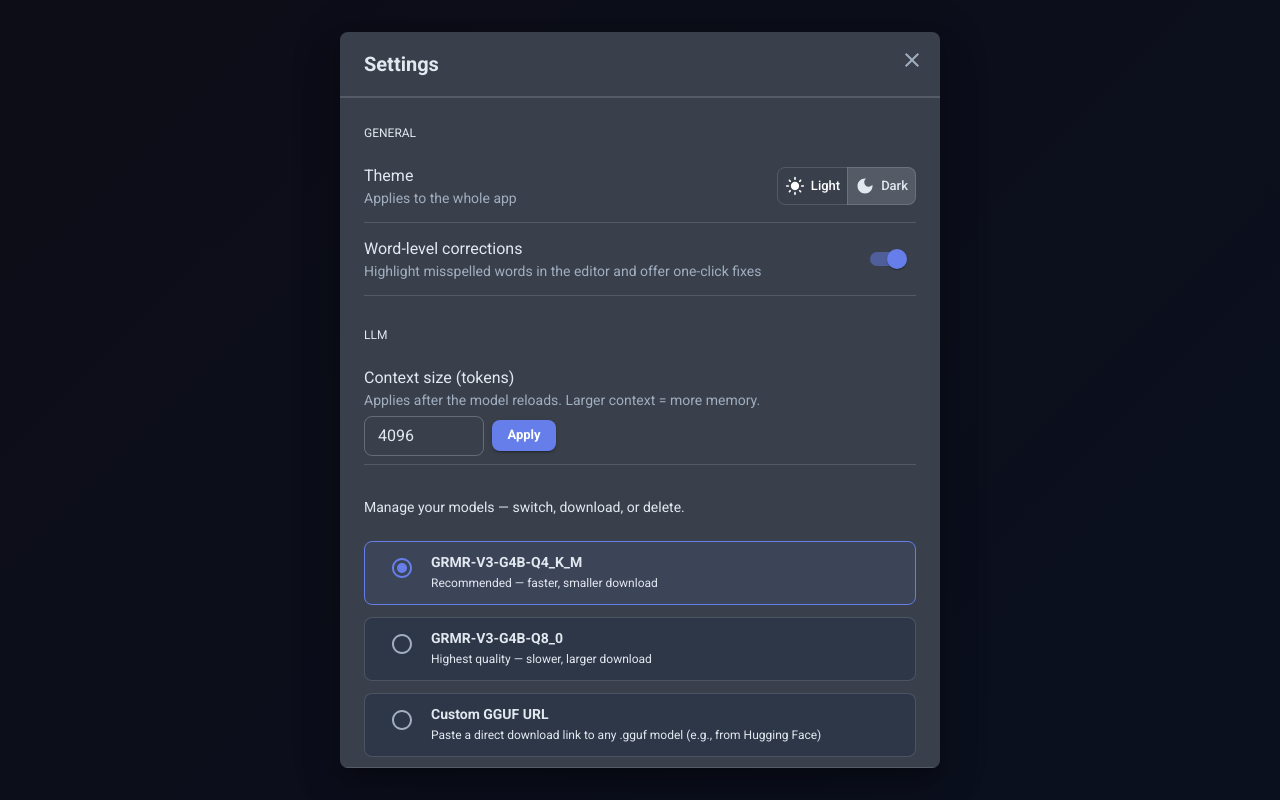
Settings dialog › saves a valid context size and confirms it
Replace the text in the number field showing "4096" with "8192" at (424, 436), box top-left (364, 416), bottom-right (484, 456)
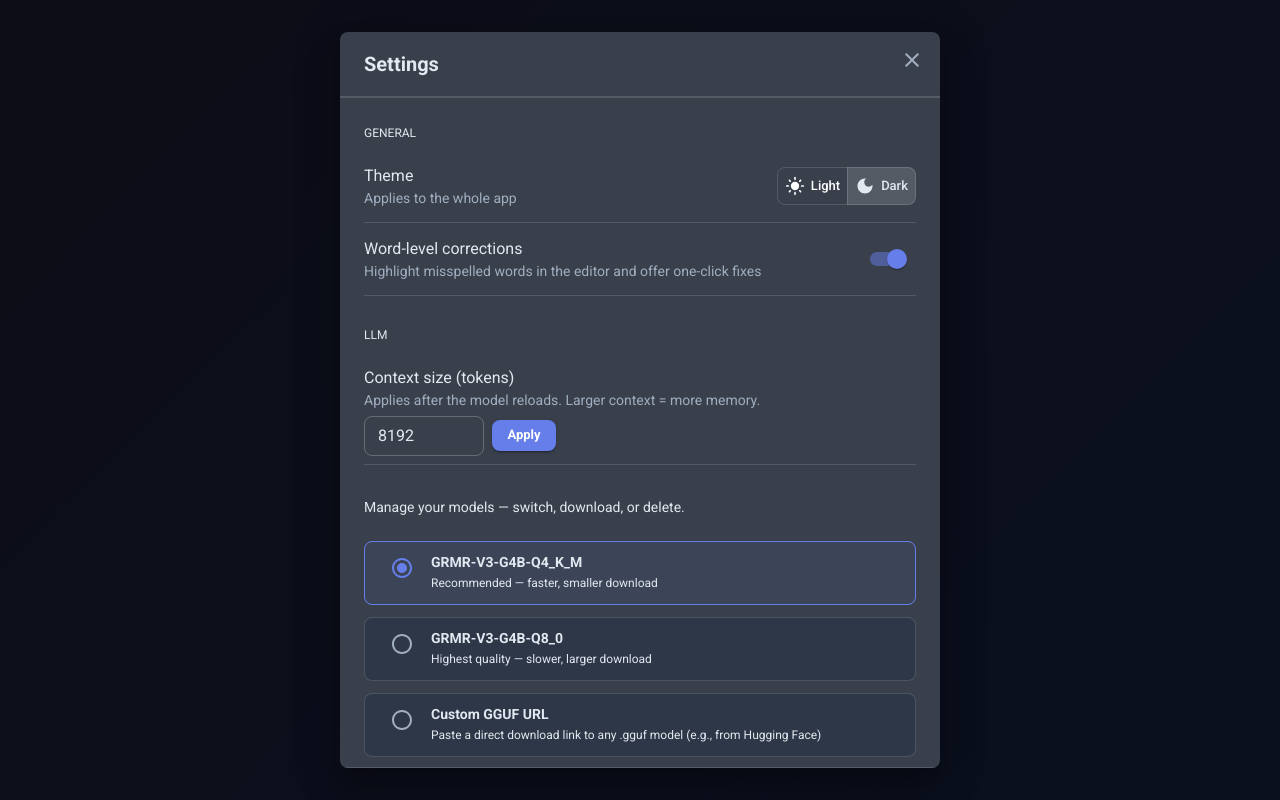
Click the button "Apply" at (524, 436), box top-left (492, 420), bottom-right (556, 451)
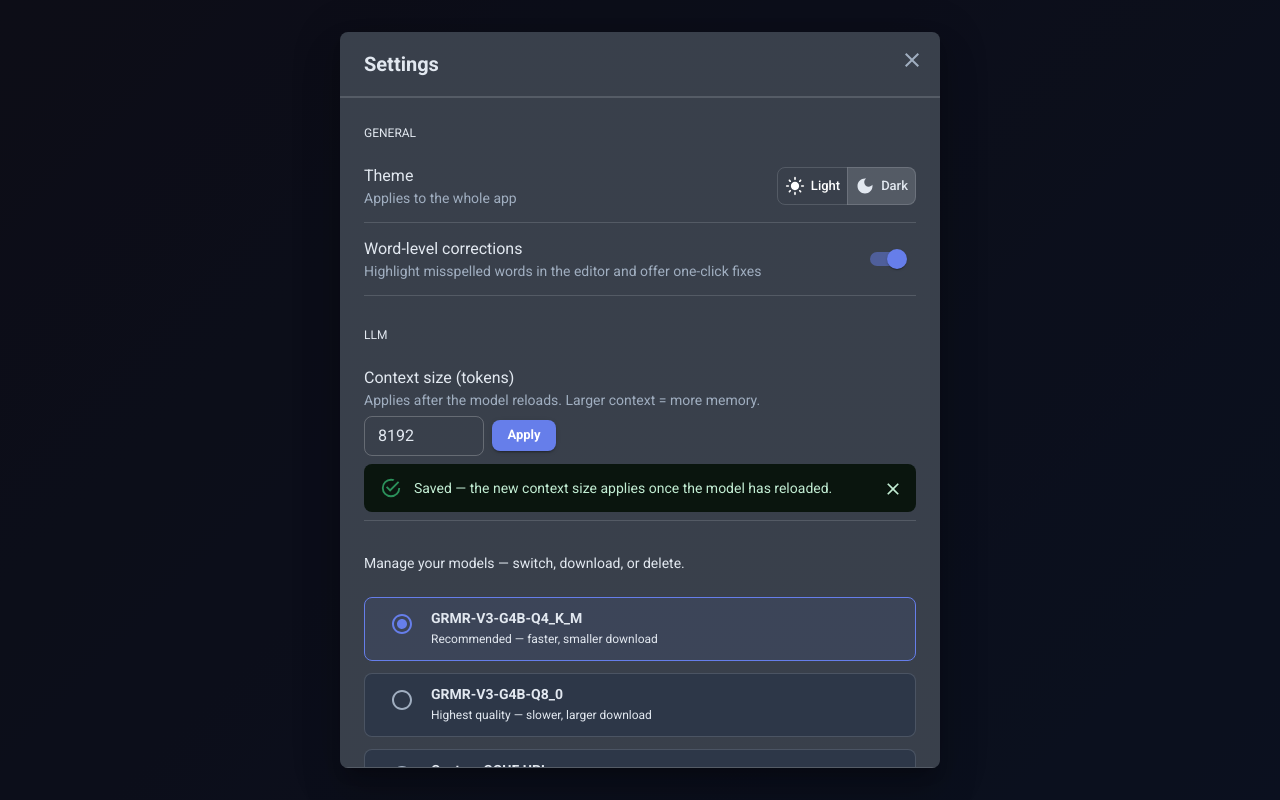
expect the text "Saved — the new context size applies" is shown: met, box top-left (414, 480), bottom-right (832, 496)
